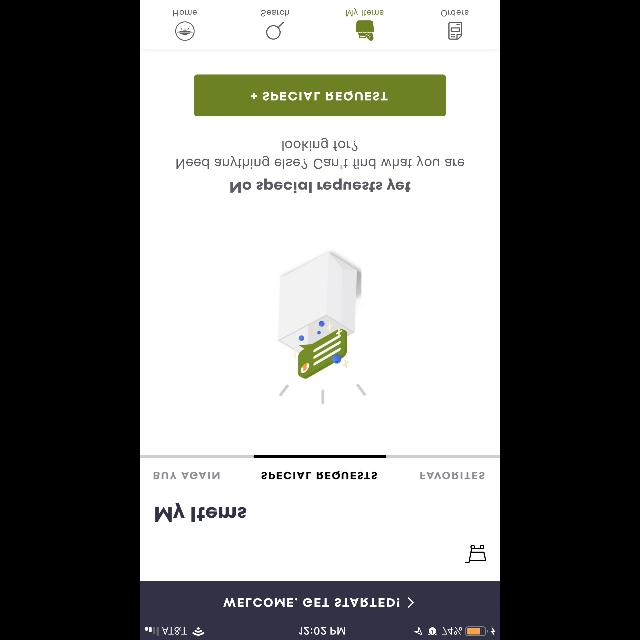icon: (466, 544, 486, 564), (266, 22, 284, 40), (448, 22, 462, 40), (408, 596, 414, 608)
image: (278, 252, 367, 404), (175, 22, 195, 40), (356, 20, 374, 40)
text: (176, 138, 464, 168), (230, 178, 410, 194), (156, 502, 247, 522), (223, 598, 399, 606), (261, 471, 377, 479), (154, 471, 220, 479), (420, 471, 484, 479), (346, 8, 384, 16), (261, 10, 289, 16), (441, 10, 469, 16), (173, 10, 197, 16)
textbutton: (194, 74, 446, 116)
uppertaskbar: (140, 626, 500, 640)
